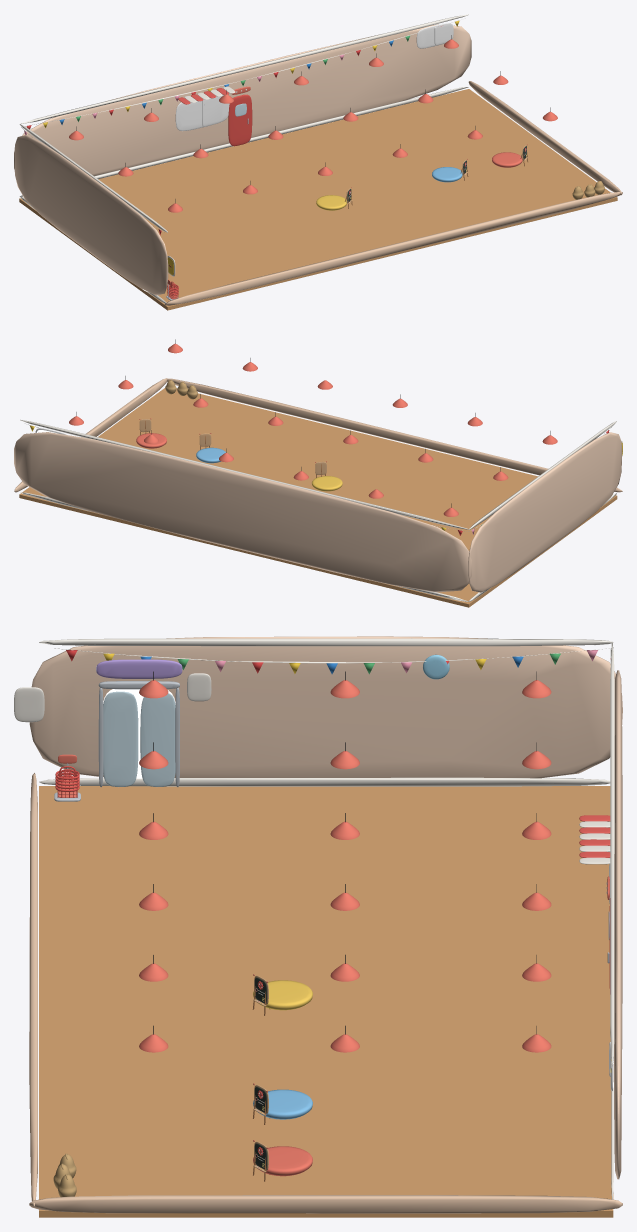
Rendered from tienda4_base.glb.
3 renders of one model, top to bottom at view 1: azimuth 30°, elevation 25°; view 2: azimuth 150°, elevation 25°; view 3: azimuth 270°, elevation 25°, orthographic. The views are drawn at different scales.
Parts seen in each view (by area): view 1: piso.003, pared fondo.003, pared izquierda.003, muro bajo frente.003, cornisa fondo.003, muro bajo derecha.003, zócalo fondo.003, marco.010, puerta.003, marco.011, cornisa izquierda.003, cuerda banderines.006; view 2: pared fondo.003, piso.003, pared izquierda.003, muro bajo frente.003, cornisa fondo.003, muro bajo derecha.003, cornisa izquierda.003, zócalo fondo.003, tarima oferta.006; view 3: piso.003, pared izquierda.003, muro bajo derecha.003, cornisa izquierda.003, pared fondo.003, zócalo izquierdo.003, muro bajo frente.003, hoja puerta.006, hoja puerta.007, cornisa fondo.003, letrero.007, tarima oferta.007 (+3 smaller).
Part boxes in pixels (box(x1,y1,x2,y2)): piso.003: box(19, 89, 617, 310); pared fondo.003: box(14, 24, 471, 175); pared izquierda.003: box(14, 135, 168, 295); muro bajo frente.003: box(164, 192, 622, 305); cornisa fondo.003: box(20, 14, 468, 124); muro bajo derecha.003: box(468, 81, 622, 195); zócalo fondo.003: box(21, 87, 468, 196); marco.010: box(175, 94, 229, 131); puerta.003: box(228, 94, 252, 146); marco.011: box(416, 23, 453, 48); cornisa izquierda.003: box(19, 124, 167, 232); cuerda banderines.006: box(25, 20, 458, 126); pared fondo.003: box(14, 432, 471, 592); piso.003: box(19, 388, 617, 607); pared izquierda.003: box(468, 432, 622, 592); muro bajo frente.003: box(167, 378, 622, 492); cornisa fondo.003: box(20, 419, 468, 529); muro bajo derecha.003: box(14, 378, 167, 492); cornisa izquierda.003: box(468, 421, 616, 529); zócalo fondo.003: box(20, 492, 468, 601); tarima oferta.006: box(312, 476, 342, 491); piso.003: box(39, 786, 613, 1217); pared izquierda.003: box(29, 636, 622, 778); muro bajo derecha.003: box(29, 1195, 622, 1213); cornisa izquierda.003: box(39, 638, 613, 646); pared fondo.003: box(613, 670, 622, 1179); zócalo izquierdo.003: box(39, 777, 610, 786); muro bajo frente.003: box(29, 773, 37, 1207); hoja puerta.006: box(103, 691, 138, 787); hoja puerta.007: box(140, 693, 175, 786); cornisa fondo.003: box(610, 642, 614, 1066); letrero.007: box(96, 659, 182, 678); tarima oferta.007: box(253, 1089, 312, 1119).
Size of the model in its own units: 21.39 by 3.61 by 12.72.
